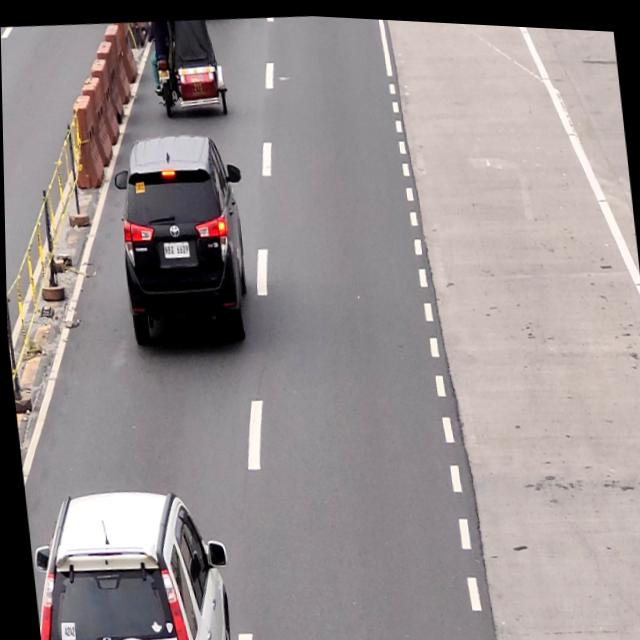Car: (23, 482, 232, 640), (112, 127, 250, 348)
License-Plate: (160, 234, 191, 263)
Tricycle: (146, 13, 231, 121)
